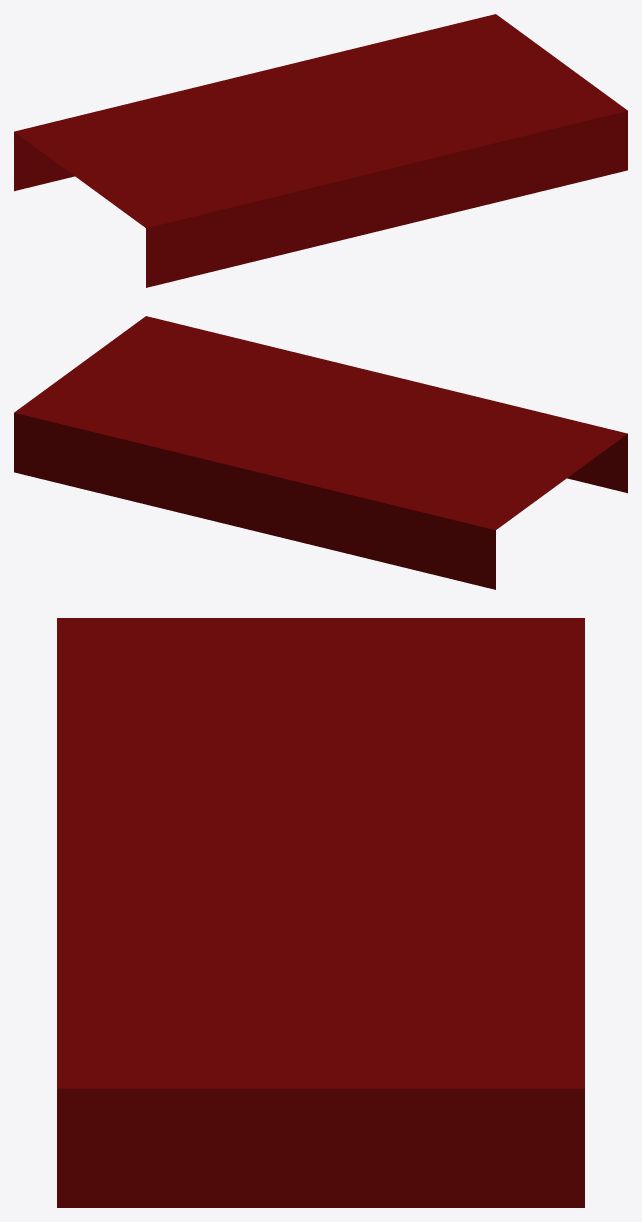
File: Mouse.glb
The picture shows the model from 3 angles, top to bottom: view 1: azimuth 30°, elevation 25°; view 2: azimuth 150°, elevation 25°; view 3: azimuth 270°, elevation 25°; orthographic projection. The views are drawn at different scales.
Visible parts, largest first — view 1: Mouse; view 2: Mouse; view 3: Mouse.
Boxes of the visible parts, left/top/right/bottom form: Mouse: left=14, top=14, right=627, bottom=287; Mouse: left=14, top=316, right=627, bottom=589; Mouse: left=57, top=618, right=584, bottom=1207.
Size of the model in its own units: 4.21 by 0.4986 by 2.
1 material, 1 textured.
